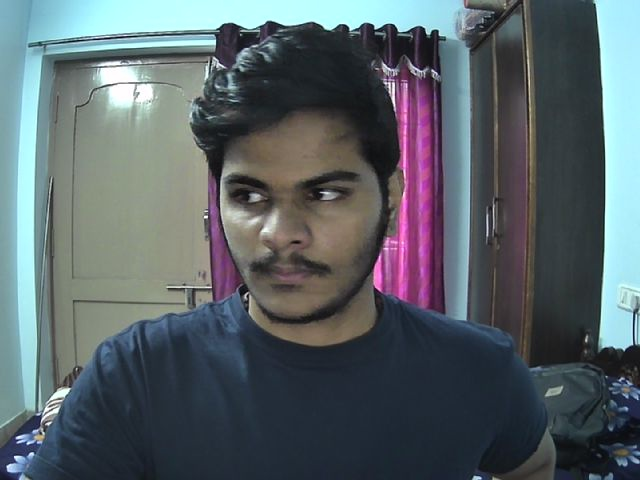NoMask: (220, 208, 386, 322)
